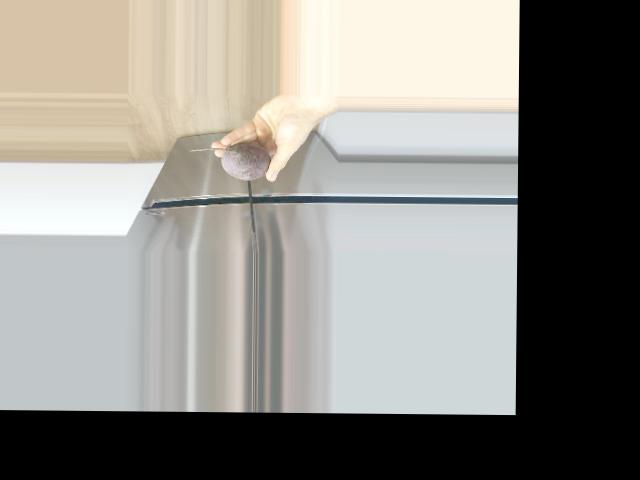beet: (188, 142, 270, 180)
